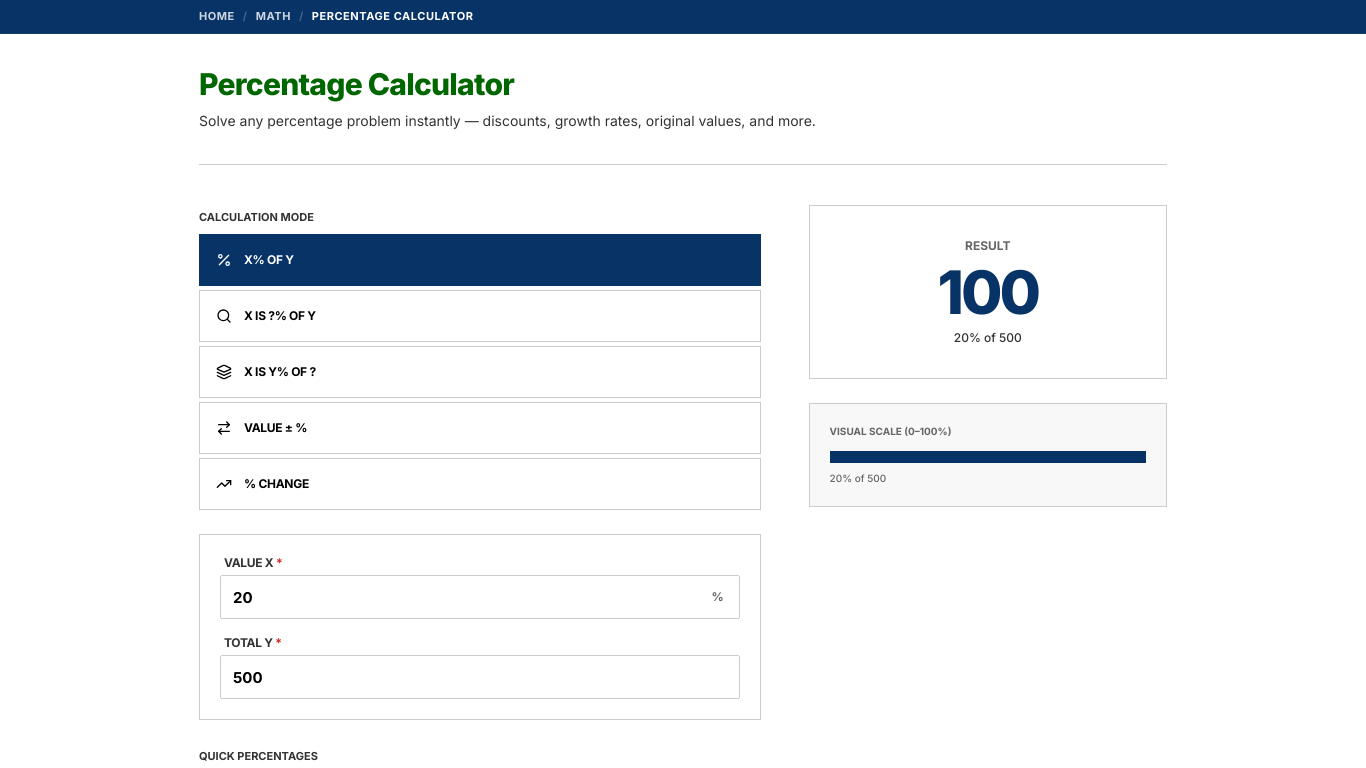
it: Percentage Calculator Accuracy Test Suite › Type 2: X is what % of Y? (150 is what % of 600 = 25%)
The image size is (1366, 768).
Click the button "X is ?% of Y".
click(280, 316)  # box [199,290,761,342]
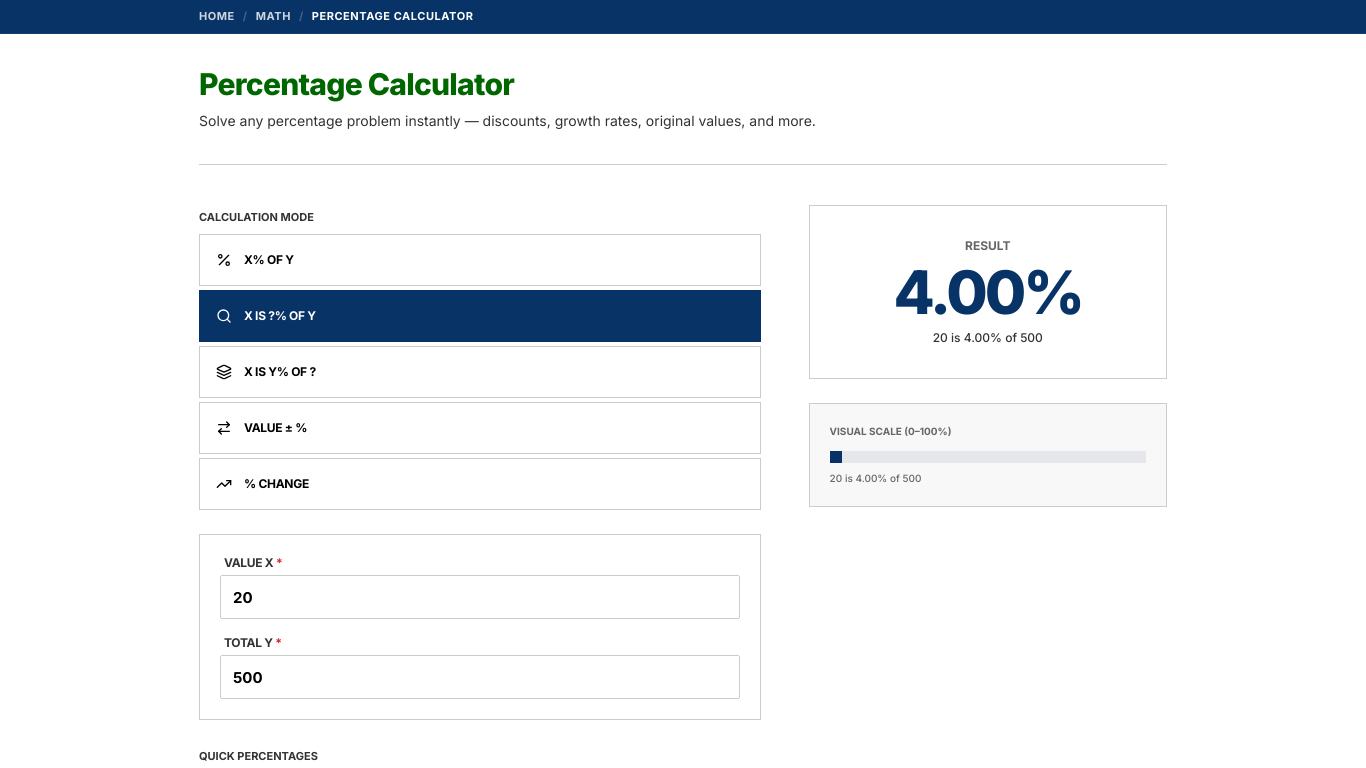
Replace the text in the number field labelled "Value X *" with "150" at (480, 597), box [220,575,740,619]
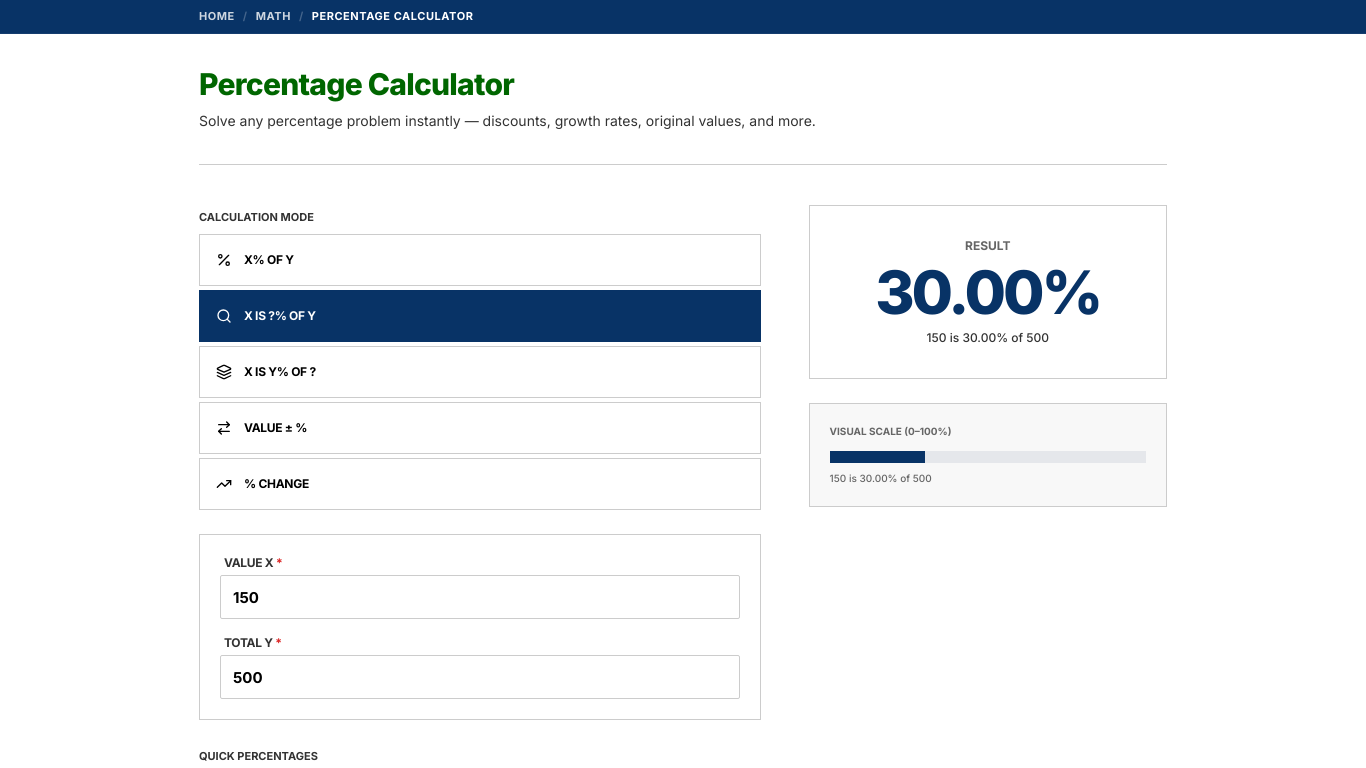
Replace the text in the number field labelled "Total Y *" with "600" at (480, 677), box [220,655,740,699]
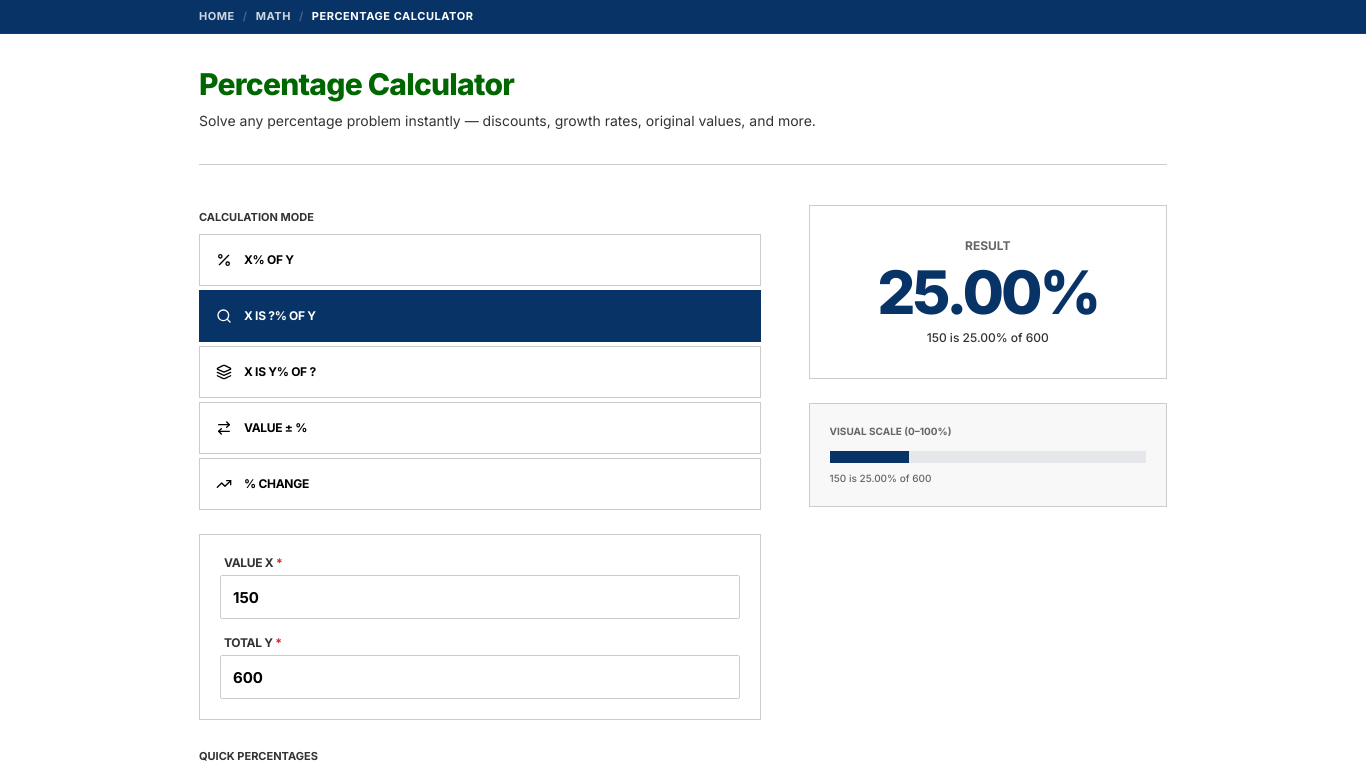
Result: the text "25.00%" is shown at [877,256,1098,328]
